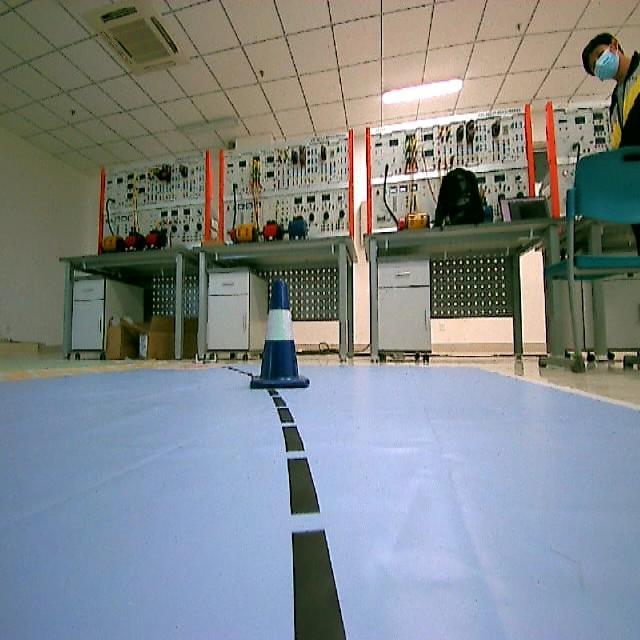obstacle: (250, 292, 316, 396)
